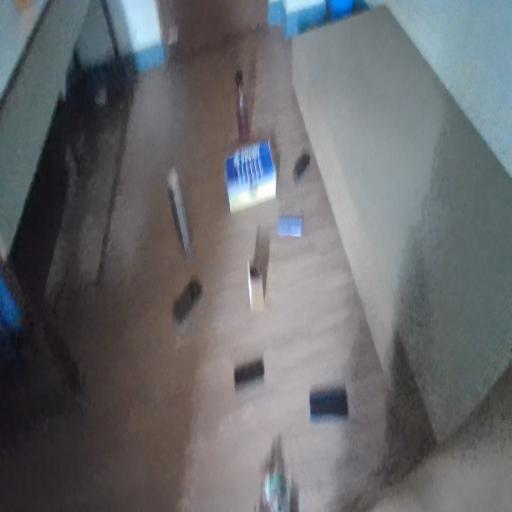Bottle: (232, 62, 255, 152)
